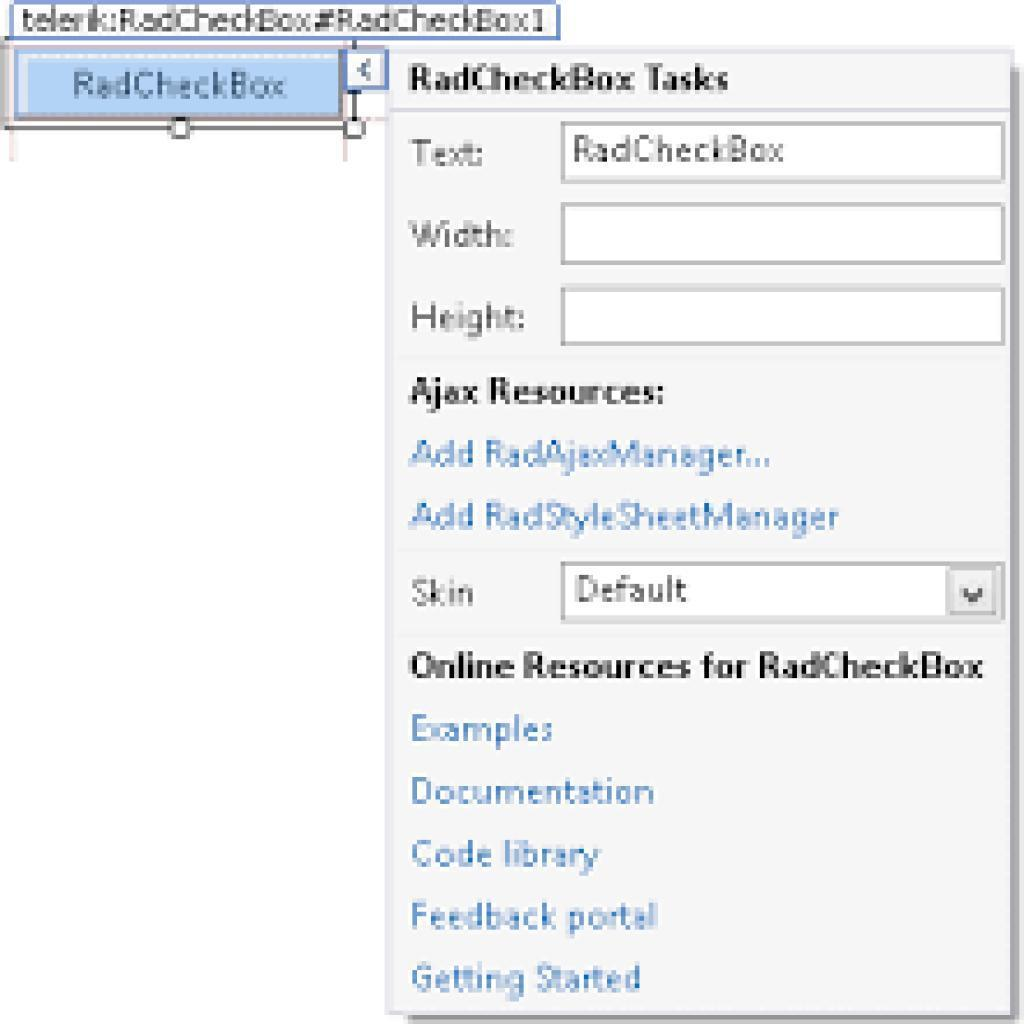dropdown: (561, 564, 1003, 624)
input: (562, 122, 1008, 186), (564, 205, 1002, 265), (565, 288, 1003, 347)
